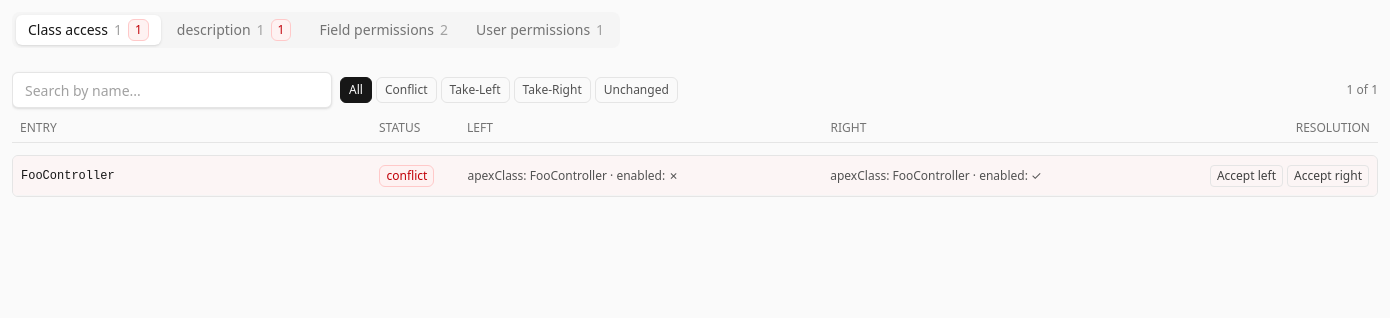
Test: MergeEntryTable › filters the active category by search
In the field with placeholder "Search by name...": coordinates (172, 90) [12,72,332,108], type "foocontroller"
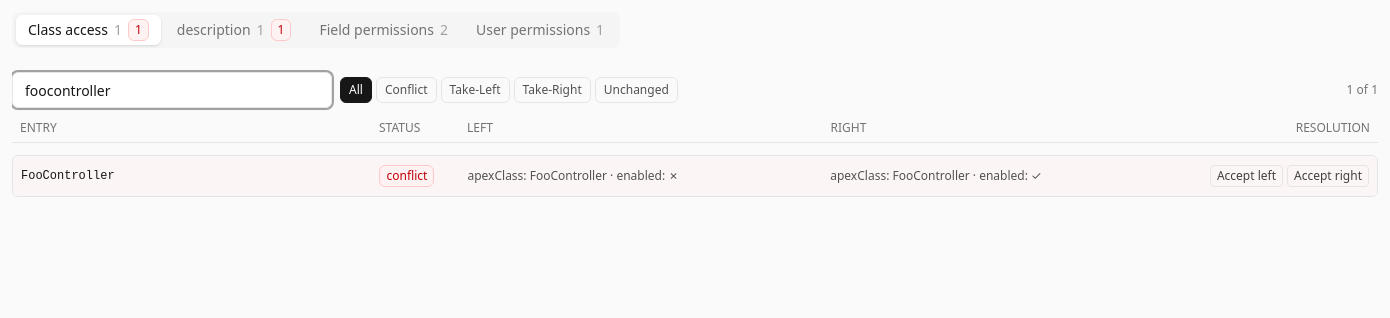
Check: the text "FooController" is shown, box [21,168,115,182]
Replace the text in the field with placeholder "Search by name..." with "nothing-matches": coordinates (172, 90) [12,72,332,108]
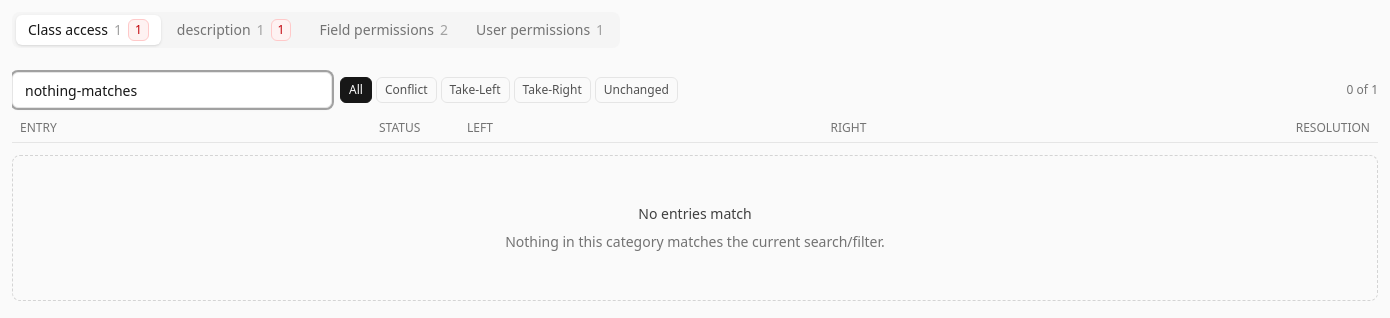
Check: the text "No entries match" is shown, box [638,204,752,224]
